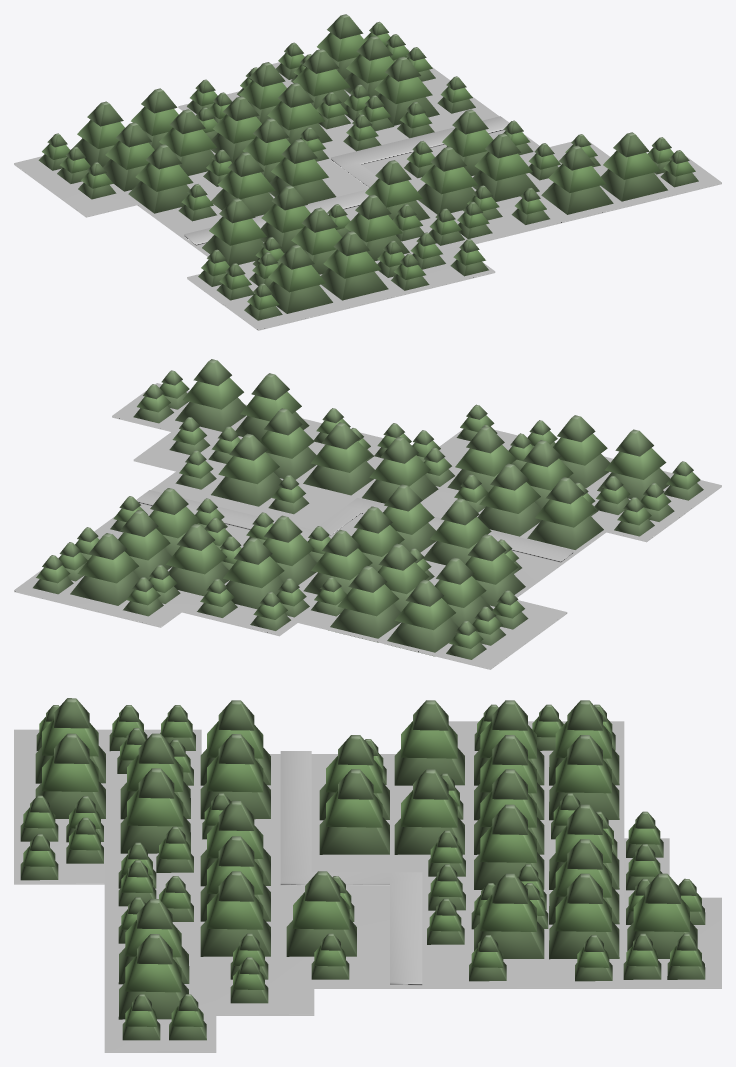
Rendered from Forest.fbx.
3 views of the same model, one above another, from view 1: azimuth 30°, elevation 25°; view 2: azimuth 150°, elevation 25°; view 3: azimuth 270°, elevation 25° (orthographic). The views are drawn at different scales.
Visible parts, largest first — view 1: Cube_002, Cube_001, Tree_018, Tree_049, Tree_045, Tree_050, Tree_023, Tree_008, Tree_006, Tree_012, Tree_020, Tree_019 (+49 smaller); view 2: Cube_002, Cube_001, Tree_012, Tree_028, Tree_006, Tree_026, Tree_009, Tree_059, Tree_045, Tree_000, Tree_037, Tree_035 (+46 smaller); view 3: Cube_002, Cube_001, Tree_020, Tree_023, Tree_008, Tree_009, Tree_033, Tree_024, Tree_036, Tree_001, Tree_049, Tree_000 (+46 smaller).
Part boxes in pixels (x1,y1,x2,y2): Cube_002: (14, 36, 721, 330); Cube_001: (184, 116, 509, 245); Tree_018: (541, 145, 613, 214); Tree_049: (320, 231, 388, 300); Tree_045: (601, 132, 667, 201); Tree_050: (268, 244, 332, 313); Tree_023: (128, 144, 193, 213); Tree_008: (472, 133, 539, 201); Tree_006: (417, 146, 477, 214); Tree_012: (202, 198, 266, 266); Tree_020: (269, 139, 336, 203); Tree_019: (211, 152, 275, 216); Cube_002: (14, 383, 721, 669); Cube_001: (136, 490, 573, 562); Tree_012: (527, 477, 603, 549); Tree_028: (387, 579, 458, 656); Tree_006: (303, 422, 374, 495); Tree_026: (328, 565, 400, 642); Tree_009: (211, 433, 281, 506); Tree_059: (70, 533, 139, 605); Tree_045: (175, 359, 246, 431); Tree_000: (477, 463, 541, 536); Tree_037: (166, 524, 228, 596); Tree_035: (223, 537, 284, 609); Cube_002: (14, 721, 721, 1052); Cube_001: (280, 751, 422, 985); Tree_020: (319, 769, 389, 854); Tree_023: (394, 700, 464, 785); Tree_008: (200, 871, 270, 956); Tree_009: (286, 871, 356, 956); Tree_033: (474, 873, 544, 958); Tree_024: (394, 769, 464, 854); Tree_036: (549, 873, 619, 959); Tree_001: (120, 768, 190, 853); Tree_049: (35, 733, 105, 818); Tree_000: (200, 734, 270, 819).
Size of the model in its own units: 17 by 1.74 by 15.44.
